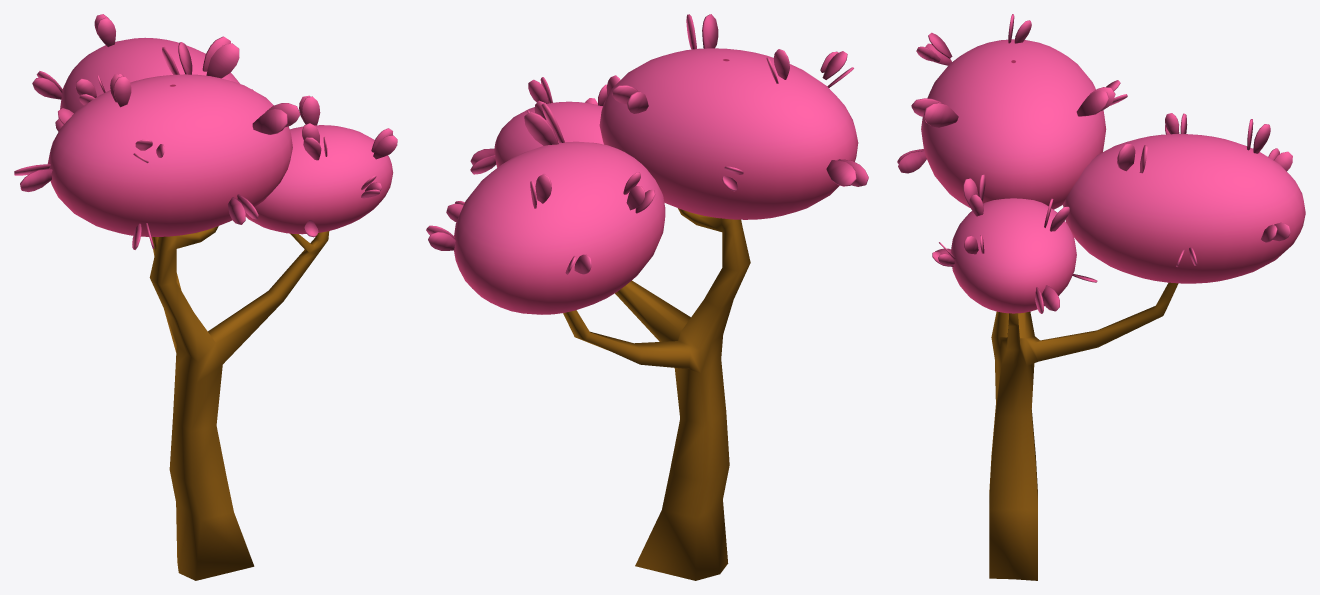
The model's file is Arvore.fbx.
The picture shows the model from 3 angles, left to right: view 1: azimuth 30°, elevation 25°; view 2: azimuth 150°, elevation 25°; view 3: azimuth 270°, elevation 25°; orthographic projection. The views are drawn at different scales.
Visible parts, largest first — view 1: Cube, Plane.009; view 2: Cube, Plane.009; view 3: Cube, Plane.009.
Part boxes in pixels (left/top/right/bottom): Cube: left=47, top=37, right=393, bottom=580; Plane.009: left=14, top=14, right=397, bottom=249; Cube: left=454, top=48, right=858, bottom=580; Plane.009: left=426, top=14, right=868, bottom=274; Cube: left=921, top=39, right=1305, bottom=580; Plane.009: left=897, top=14, right=1292, bottom=313.
Size of the model in its own units: 483 by 634 by 465.
3 materials, 3 textured.
